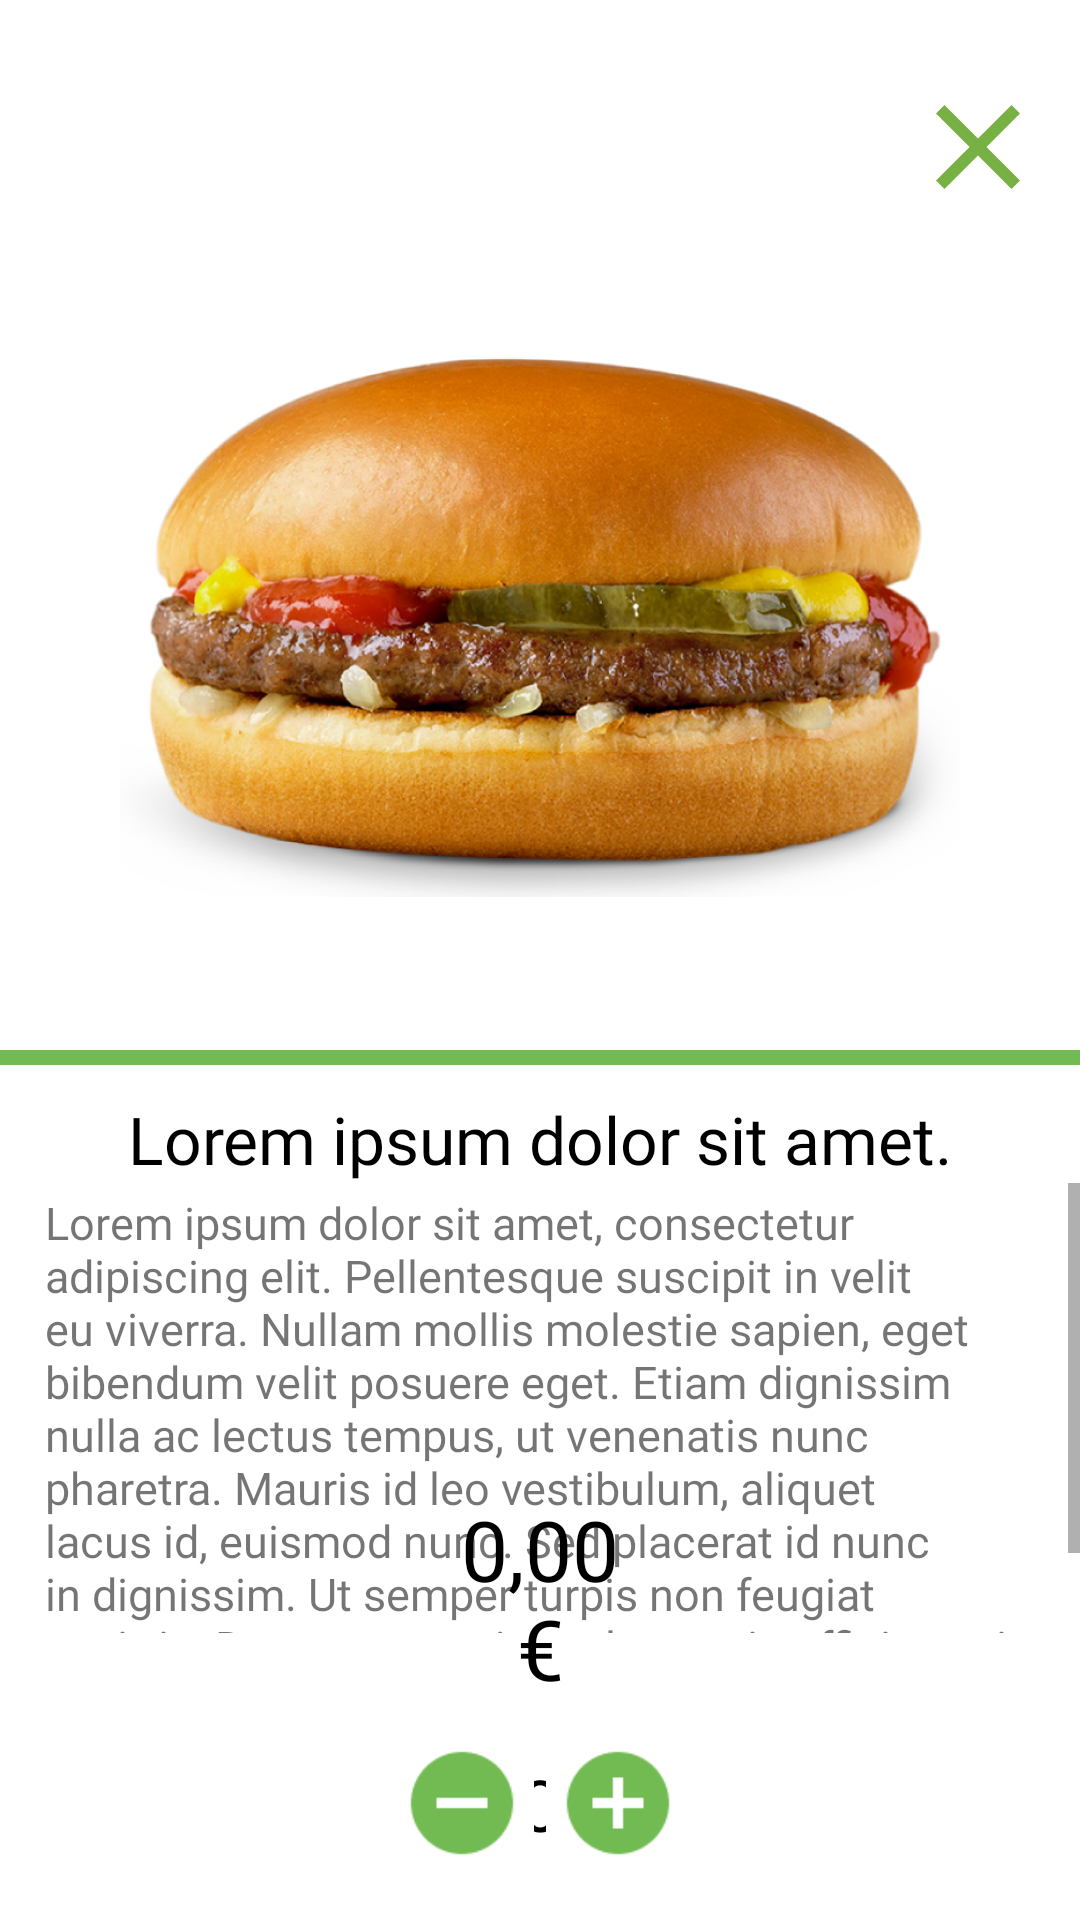

Icon bounding boxes for this 1080 × 1920 phone screenshot, format [left=x1, top=y1, right=x2, bottom=y2]:
Cerrar detalles: [left=936, top=105, right=1020, bottom=189]
